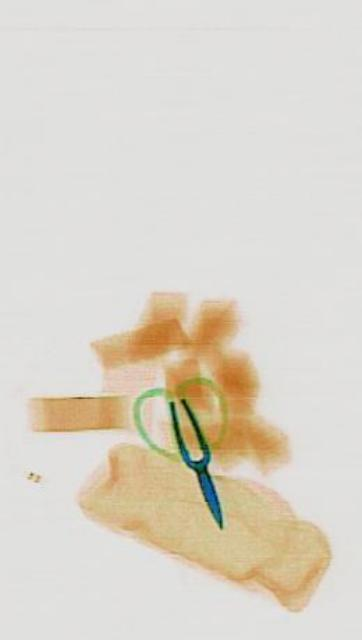Scissors: (125, 335, 255, 563)
